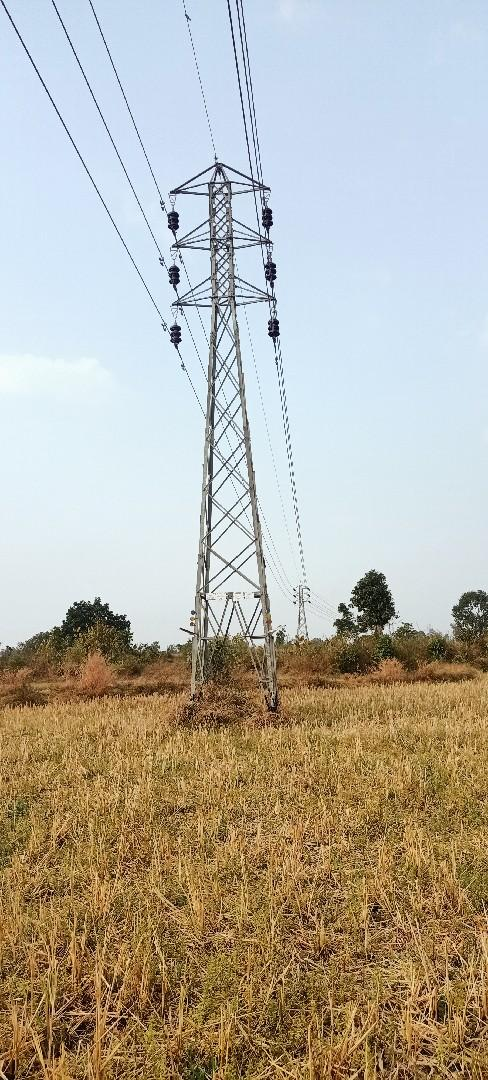GSM Antenna: (165, 160, 289, 682)
